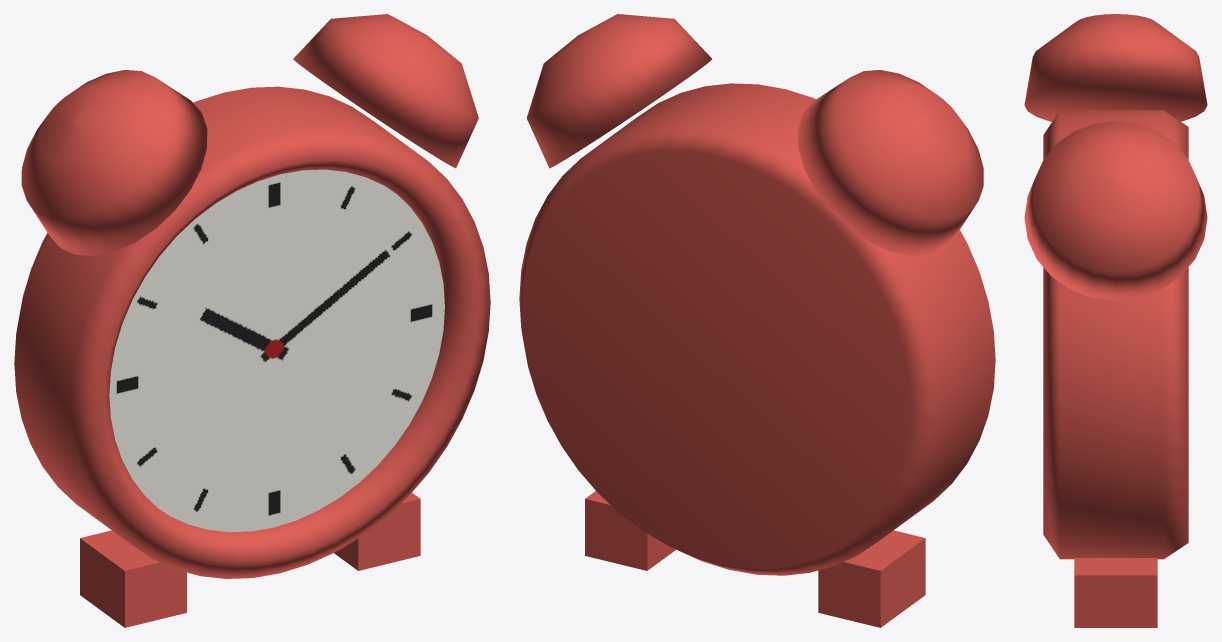
The picture shows the model from 3 angles, left to right: view 1: azimuth 30°, elevation 25°; view 2: azimuth 150°, elevation 25°; view 3: azimuth 270°, elevation 25°; orthographic projection. The views are drawn at different scales.
Visible parts, largest first — view 1: Alarm clock; view 2: Alarm clock; view 3: Alarm clock.
Part boxes in pixels (x1,y1,x2,y2): Alarm clock: (14, 14, 490, 627); Alarm clock: (519, 14, 995, 627); Alarm clock: (1024, 14, 1207, 627).
Bounding box in the file's own units: 0.1101 × 0.128 × 0.044.
Materials: 2 (1 with a texture image).
